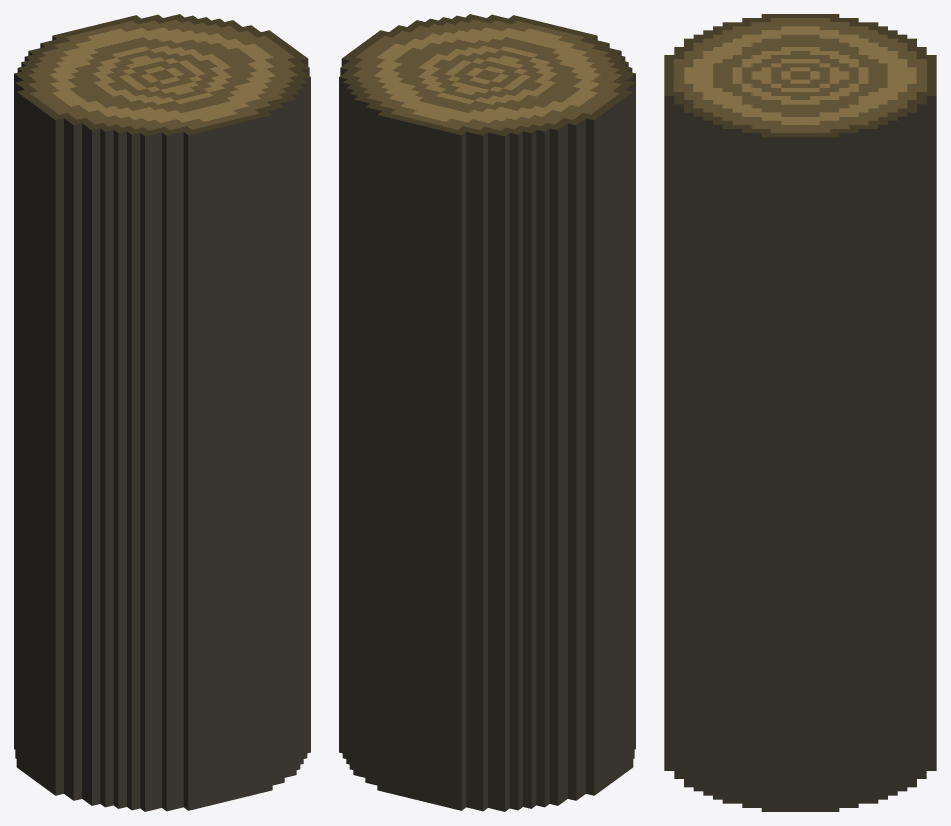
The model's file is wood_whole.glb.
3 renders of one model, left to right at view 1: azimuth 30°, elevation 25°; view 2: azimuth 150°, elevation 25°; view 3: azimuth 270°, elevation 25°, orthographic.
Parts seen in each view (by area): view 1: wood1-1-col; view 2: wood1-1-col; view 3: wood1-1-col.
Part boxes in pixels (x1,y1,x2,y2): wood1-1-col: (14,14,310,811); wood1-1-col: (339,14,635,811); wood1-1-col: (664,14,936,811).
Bounding box in the file's own units: 0.9375 × 2.39 × 0.875.
Materials: 2 (1 with a texture image).
